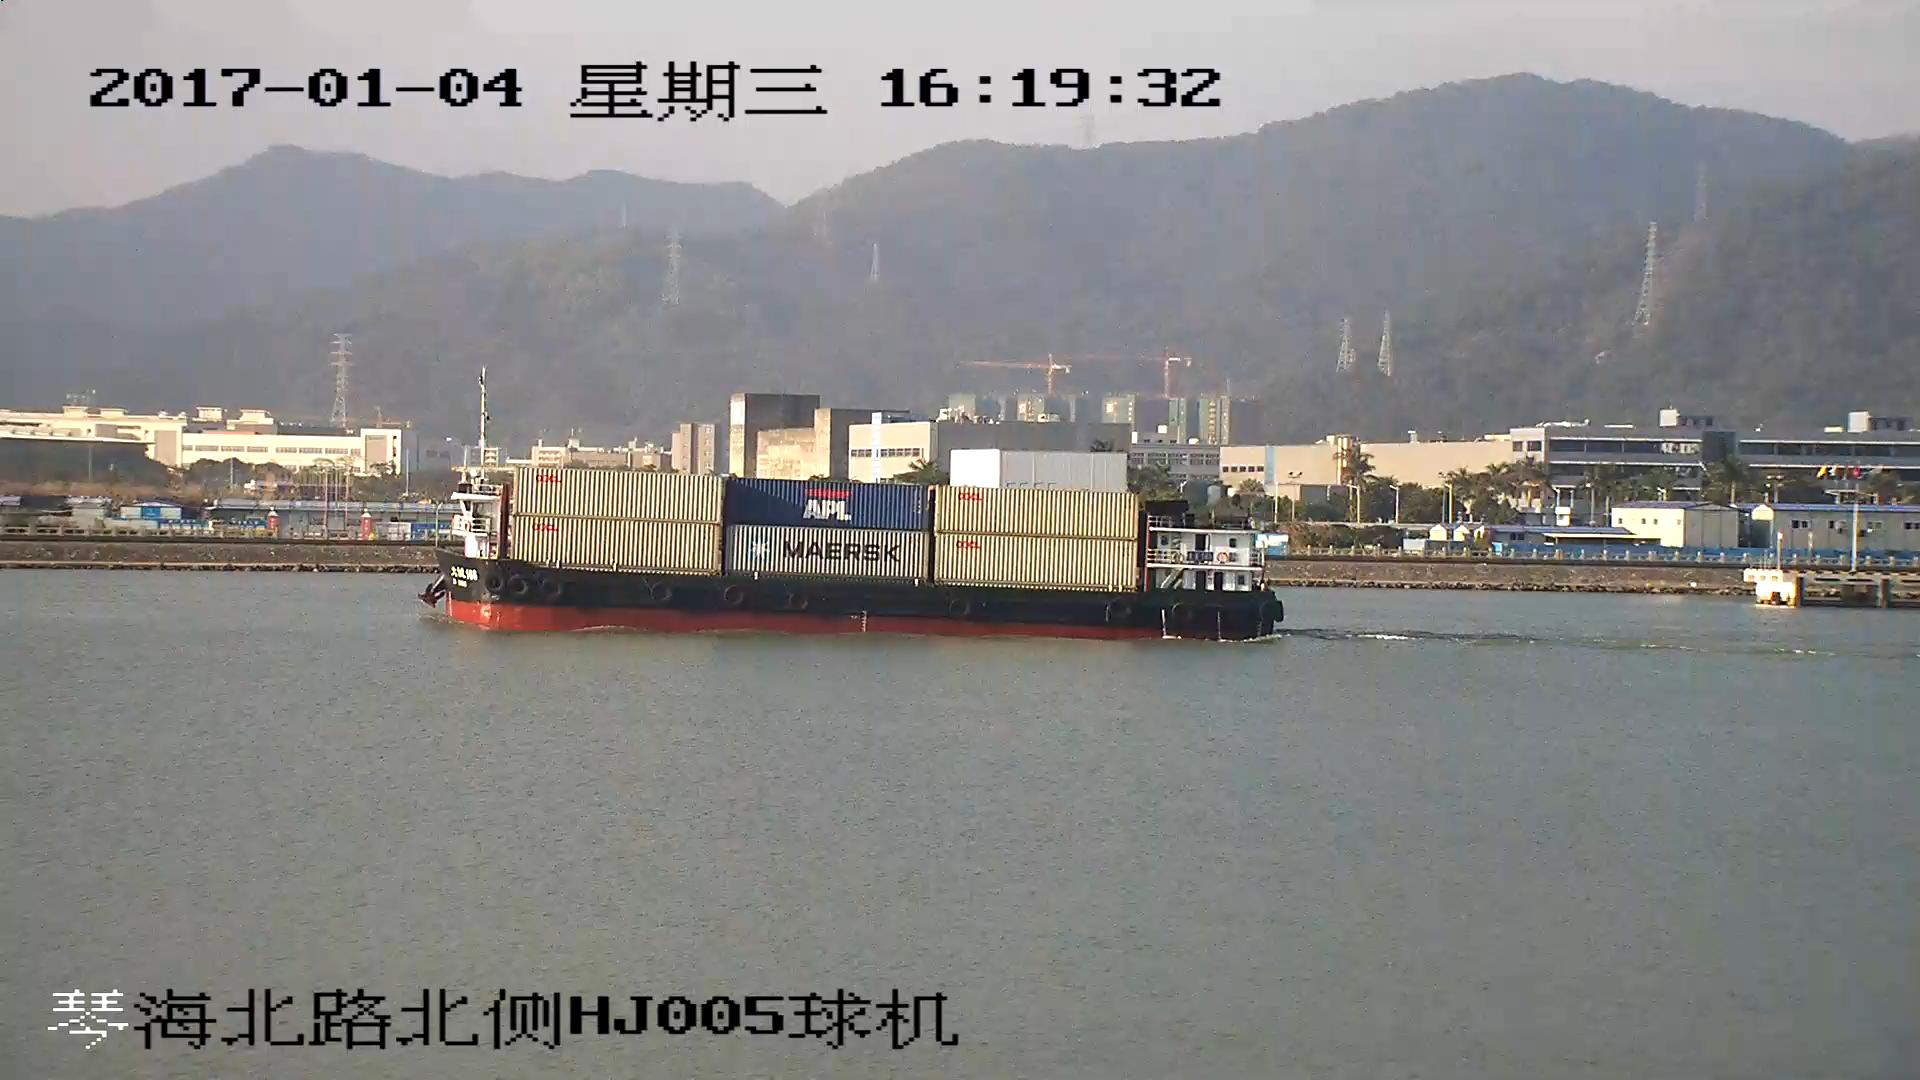container ship: (421, 465, 1286, 643)
